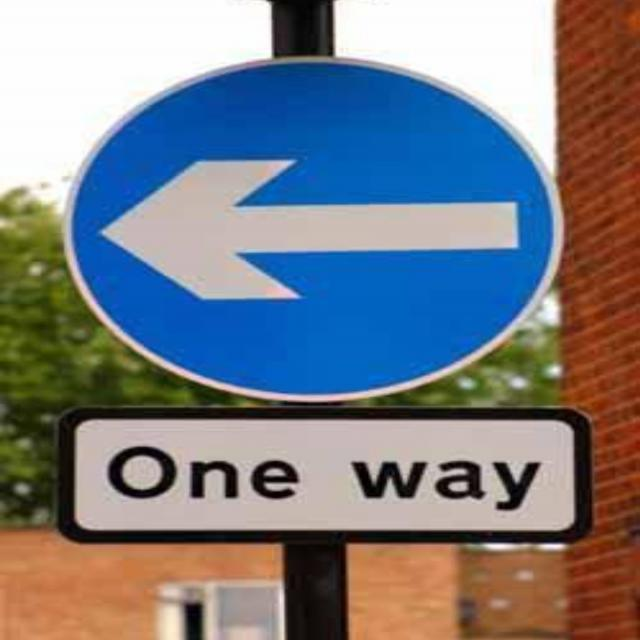Turn Left: (56, 67, 561, 400)
